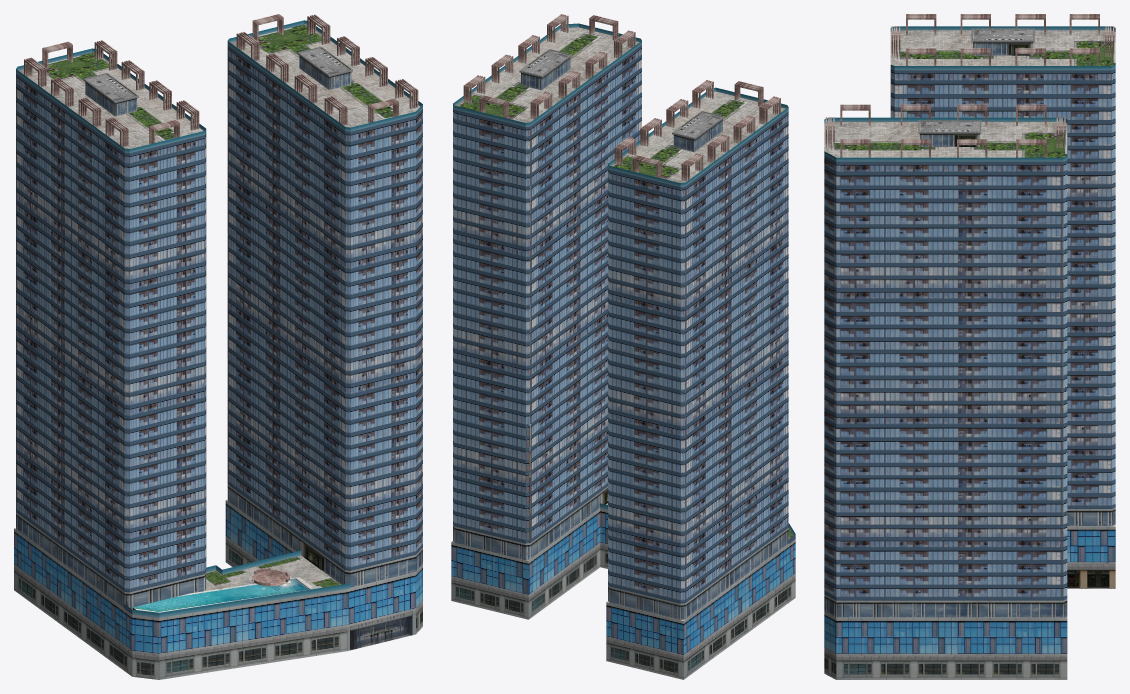
3 renders of one model, left to right at view 1: azimuth 30°, elevation 25°; view 2: azimuth 150°, elevation 25°; view 3: azimuth 270°, elevation 25°, orthographic. The views are drawn at different scales.
Visible parts, largest first — view 1: AthenaLuxuryDanangRiverside.001; view 2: AthenaLuxuryDanangRiverside.001; view 3: AthenaLuxuryDanangRiverside.001.
Boxes of the visible parts, box(x1,y1,x2,y2) form: AthenaLuxuryDanangRiverside.001: box(14, 14, 422, 679); AthenaLuxuryDanangRiverside.001: box(451, 14, 795, 679); AthenaLuxuryDanangRiverside.001: box(824, 14, 1115, 679).
Bounding box in the file's own units: 80.8 × 154 × 75.73.
1 material, 1 textured.
